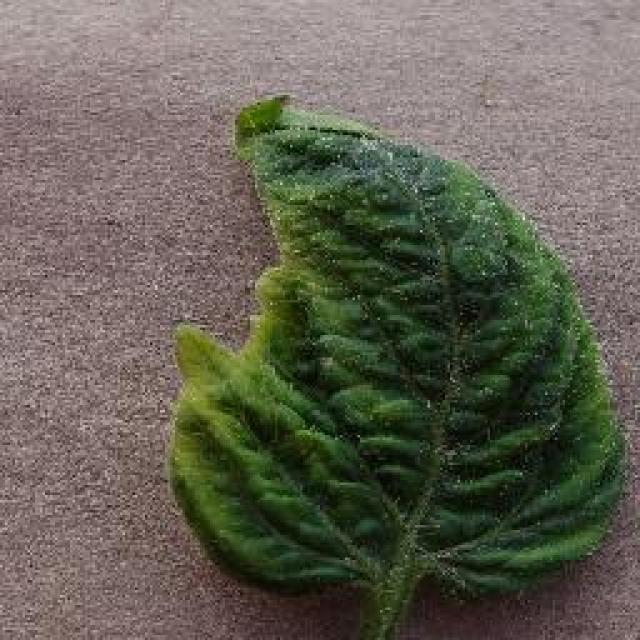Tomato yellow virus leaf: (170, 90, 630, 604)
